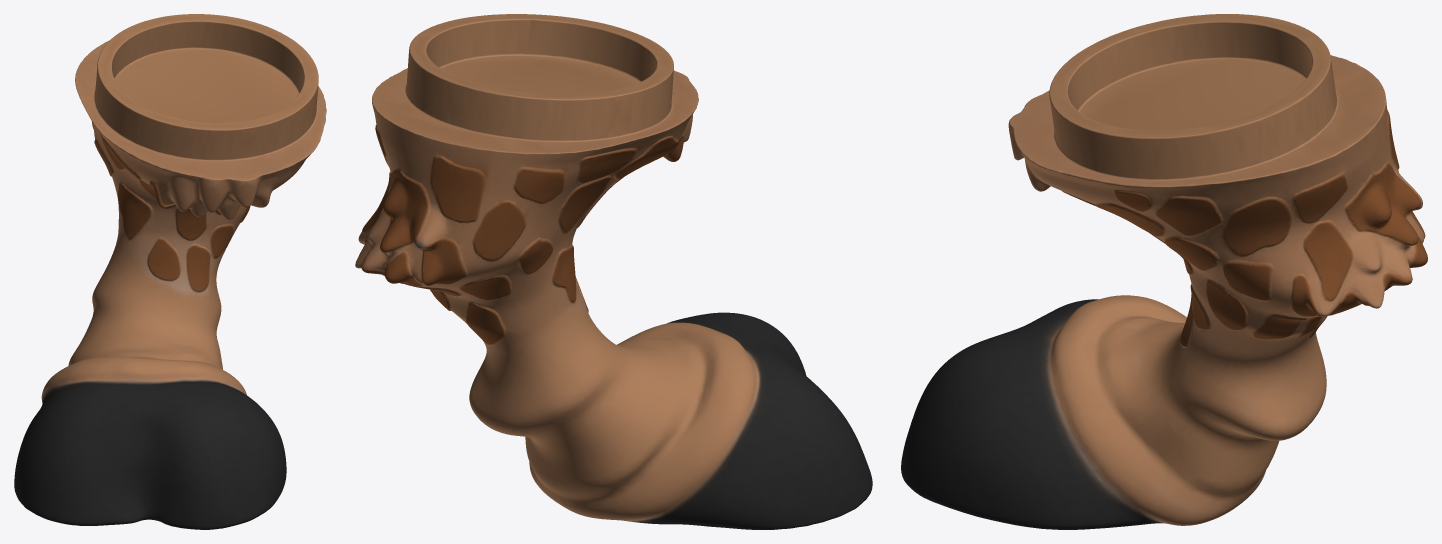
File: Patte_Girafe_rg.glb
3 renders of one model, left to right at view 1: azimuth 30°, elevation 25°; view 2: azimuth 150°, elevation 25°; view 3: azimuth 270°, elevation 25°, orthographic. The views are drawn at different scales.
Parts seen in each view (by area): view 1: Patte_Girafe_rg; view 2: Patte_Girafe_rg; view 3: Patte_Girafe_rg.
Part boxes in pixels (bbox=[...]): Patte_Girafe_rg: bbox=[14, 14, 326, 529]; Patte_Girafe_rg: bbox=[355, 14, 872, 529]; Patte_Girafe_rg: bbox=[901, 14, 1427, 529].
Size of the model in its own units: 2.14 by 2.26 by 2.3.
